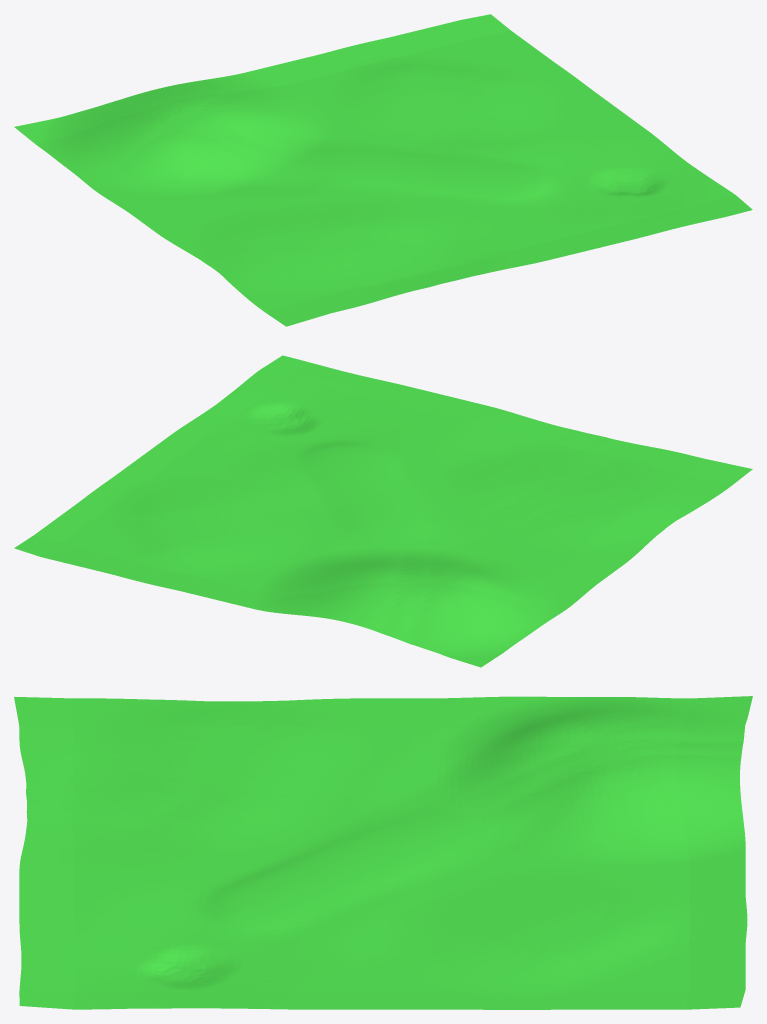
The model's file is terrain.dae.
3 views of the same model, one above another, from view 1: azimuth 30°, elevation 25°; view 2: azimuth 150°, elevation 25°; view 3: azimuth 270°, elevation 25° (orthographic). The views are drawn at different scales.
Parts seen in each view (by area): view 1: Plane; view 2: Plane; view 3: Plane.
Part boxes in pixels (x1=…): Plane: x1=14, y1=14, x2=752, y2=326; Plane: x1=14, y1=355, x2=752, y2=667; Plane: x1=14, y1=696, x2=752, y2=1009.
Size of the model in its own units: 30.11 by 29.87 by 1.38.
